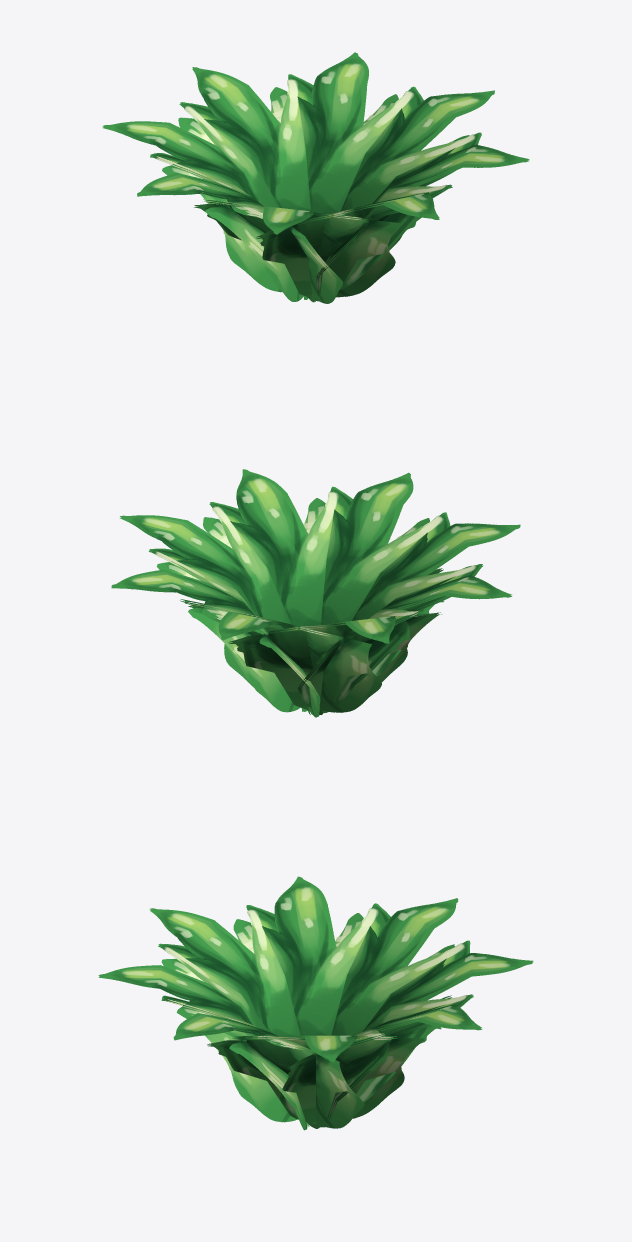
File: PlantTeo.FBX
The picture shows the model from 3 angles, top to bottom: view 1: azimuth 30°, elevation 25°; view 2: azimuth 150°, elevation 25°; view 3: azimuth 270°, elevation 25°; orthographic projection.
Parts seen in each view (by area): view 1: Plane008; view 2: Plane008; view 3: Plane008.
Boxes of the visible parts, x1=… form: Plane008: x1=102, y1=52, x2=529, y2=303; Plane008: x1=111, y1=469, x2=520, y2=717; Plane008: x1=98, y1=876, x2=533, y2=1130.
Size of the model in its own units: 332 by 111 by 332.
